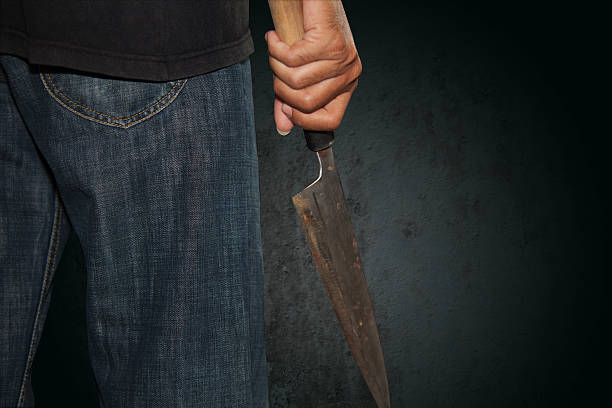knife: (292, 129, 392, 408)
